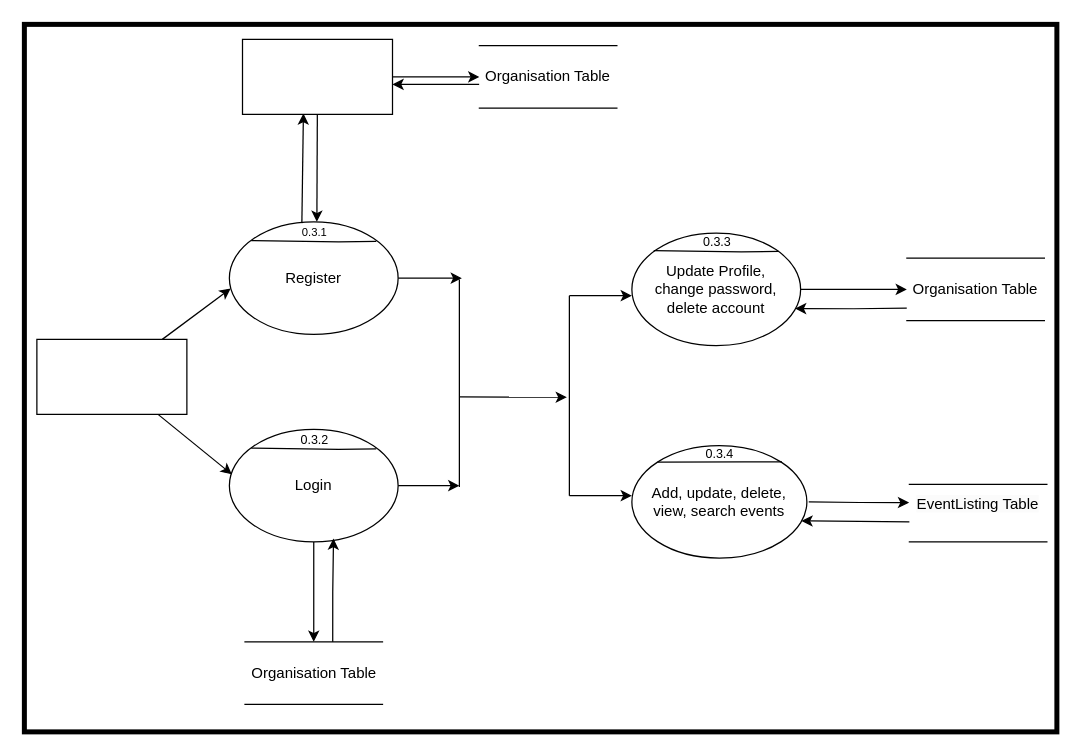
The diagram is 1080 pixels wide and 755 high, and some of its shapes have lost their labels. The centre of each missing label's shape, as x and y in pixels:
"Admin" goes at (x=316, y=76).
"Organisation/ club/ society" goes at (x=111, y=376).
